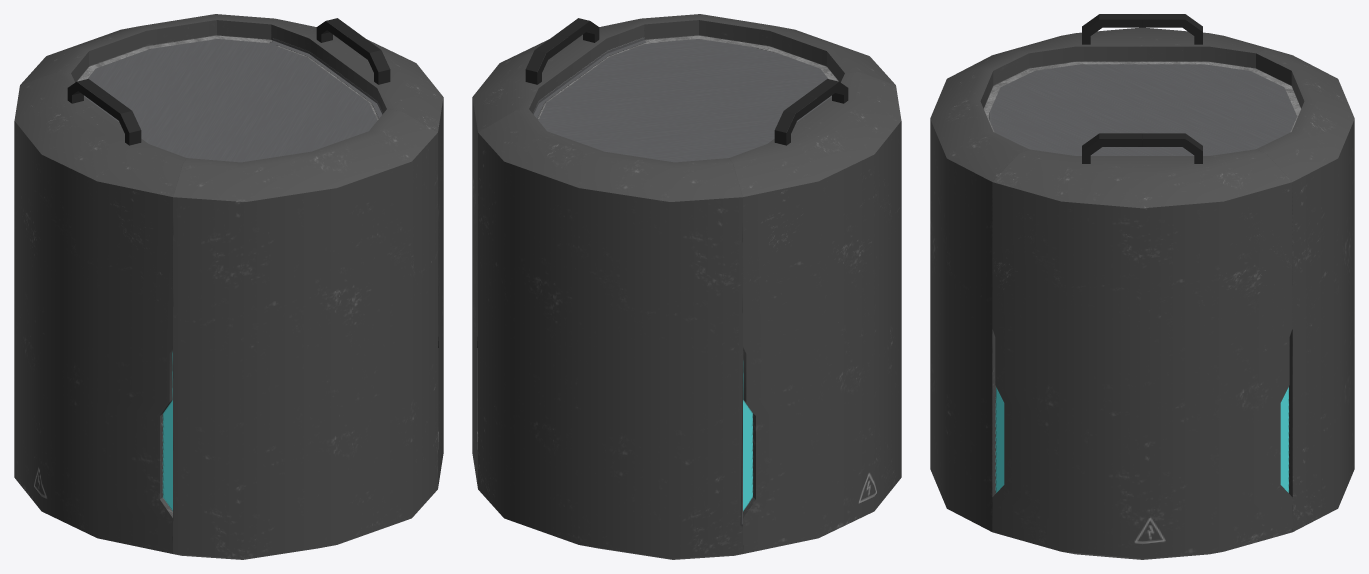
File: Battery.obj
The picture shows the model from 3 angles, left to right: view 1: azimuth 30°, elevation 25°; view 2: azimuth 150°, elevation 25°; view 3: azimuth 270°, elevation 25°; orthographic projection.
Visible parts, largest first — view 1: Battery; view 2: Battery; view 3: Battery.
Part boxes in pixels (left/top/right/bottom): Battery: left=14, top=14, right=443, bottom=559; Battery: left=472, top=14, right=901, bottom=559; Battery: left=930, top=14, right=1354, bottom=559.
Bounding box in the file's own units: 0.4835 × 0.5147 × 0.4835.
